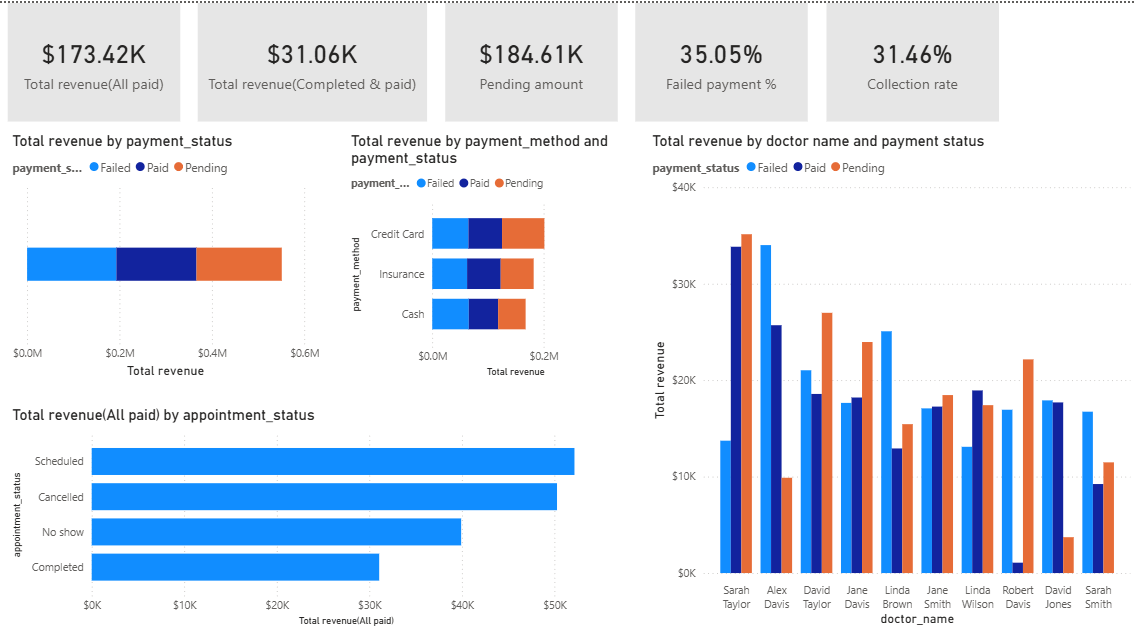

The dashboard page shown, as its layout file describes it:
{"tool":"powerbi","page":{"name":"Billing analysis","canvas":[1280,720],"ordinal":3},"visuals":[{"type":"card","fields":{"Values":["Table.Total revenue(All paid)"]},"box":[9.7,0,194.4,133.3],"z":0},{"type":"card","fields":{"Values":["Table.Total revenue(Completed & paid)"]},"box":[224.3,0,258.3,133.3],"z":1000},{"type":"card","fields":{"Values":["Table.Pending amount"]},"box":[502.8,0,194.4,133.3],"z":2000},{"type":"card","fields":{"Values":["Table.Failed payment %"]},"box":[717.4,0,194.4,133.3],"z":3000},{"type":"card","fields":{"Values":["Table.Collection rate"]},"box":[931.9,0,194.4,133.3],"z":4000},{"type":"barChart","fields":{"Y":["Table.Total revenue"],"Series":["gold fact_hospital_events.payment_status"]},"box":[9.9,145.1,356.3,281.7],"z":5000},{"type":"barChart","fields":{"Category":["gold dim_payment_method.payment_method"],"Series":["gold fact_hospital_events.payment_status"],"Y":["Table.Total revenue"]},"box":[391.5,145.1,307,281.7],"z":6000},{"type":"clusteredBarChart","fields":{"Category":["gold fact_hospital_events.appointment_status"],"Y":["Table.Total revenue(All paid)"]},"box":[9.9,453.5,687.3,253.5],"z":7000},{"type":"clusteredColumnChart","title":"Total revenue by doctor name and payment status","fields":{"Category":["gold dim_doctors.doctor_name"],"Series":["gold fact_hospital_events.payment_status"],"Y":["Table.Total revenue"]},"box":[731,145.1,549.3,562],"z":7001}]}

Visuals, with their boxes in screenshot pixels (x1, y1, x2, y2), scaled from the page's 1280x720 canvas onto the 1135x642 screenshot:
card - Table.Total revenue(All paid): x1=9, y1=0, x2=181, y2=119
card - Table.Total revenue(Completed & paid): x1=199, y1=0, x2=428, y2=119
card - Table.Pending amount: x1=446, y1=0, x2=618, y2=119
card - Table.Failed payment %: x1=636, y1=0, x2=809, y2=119
card - Table.Collection rate: x1=826, y1=0, x2=999, y2=119
barChart - Table.Total revenue x gold fact_hospital_events.payment_status: x1=9, y1=129, x2=325, y2=381
barChart - gold dim_payment_method.payment_method x gold fact_hospital_events.payment_status: x1=347, y1=129, x2=619, y2=381
clusteredBarChart - gold fact_hospital_events.appointment_status x Table.Total revenue(All paid): x1=9, y1=404, x2=618, y2=630
"Total revenue by doctor name and payment status" clusteredColumnChart: x1=648, y1=129, x2=1134, y2=630
